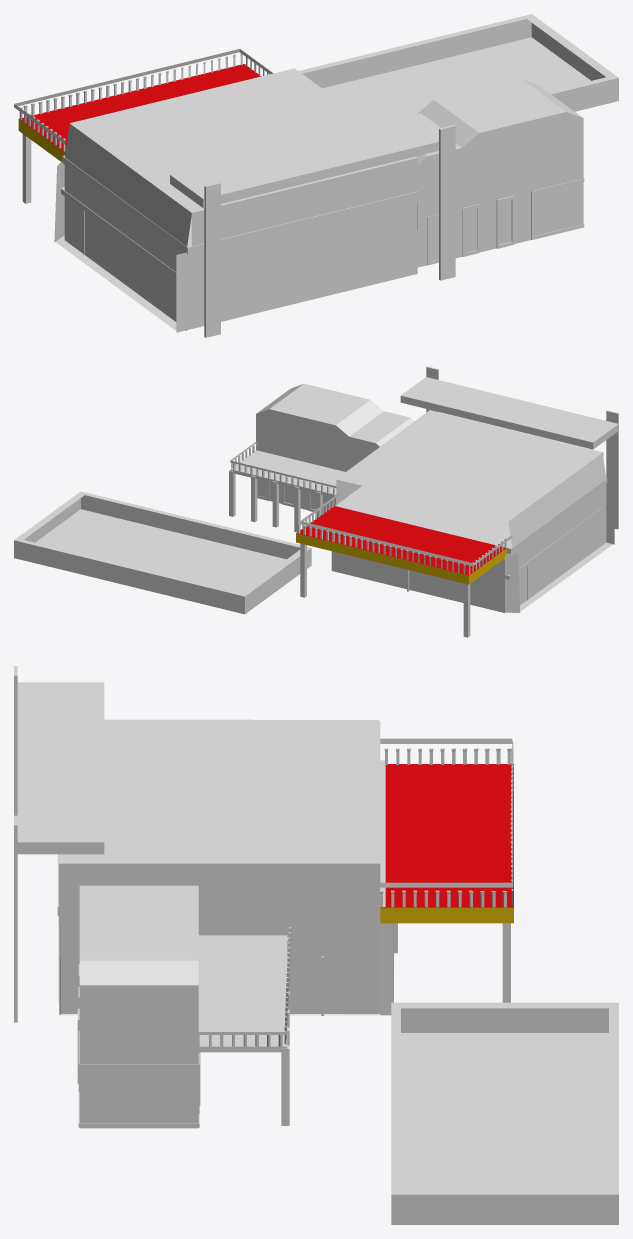
The model's file is PlayerHouseSTM.fbx.
3 views of the same model, one above another, from view 1: azimuth 30°, elevation 25°; view 2: azimuth 150°, elevation 25°; view 3: azimuth 270°, elevation 25° (orthographic). The views are drawn at different scales.
Visible parts, largest first — view 1: Cube.002, Cube.003, Cube.006, Cube.001, Cube.005, Cube.010, Cube, Cube.004, Cube.028, Cube.027, Cube.019, Cube.008; view 2: Cube.002, Cube.006, Cube.003, Cube.005, Cube.001, Cube.010, Cube.022, Cube.029, Cube.028, Cube.004, Cube.027, Cube.025 (+1 smaller); view 3: Cube.002, Cube.006, Cube.003, Cube.005, Cube.001, Cube.022, Cube.028, Cube.027, Cube.010, Cube.029, Cube, Cube.025.
Boxes of the visible parts, bbox=[...] form: Cube.002: bbox=[54, 68, 417, 332]; Cube.003: bbox=[381, 78, 584, 267]; Cube.006: bbox=[299, 14, 618, 125]; Cube.001: bbox=[170, 113, 440, 208]; Cube.005: bbox=[18, 64, 261, 161]; Cube.010: bbox=[62, 155, 417, 254]; Cube: bbox=[439, 125, 455, 280]; Cube.004: bbox=[204, 182, 220, 337]; Cube.028: bbox=[19, 53, 268, 151]; Cube.027: bbox=[14, 49, 273, 144]; Cube.019: bbox=[61, 186, 176, 277]; Cube.008: bbox=[22, 134, 31, 191]; Cube.002: bbox=[331, 410, 614, 612]; Cube.006: bbox=[14, 491, 311, 614]; Cube.003: bbox=[256, 383, 414, 512]; Cube.005: bbox=[296, 505, 507, 584]; Cube.001: bbox=[400, 377, 618, 449]; Cube.010: bbox=[335, 478, 607, 553]; Cube.022: bbox=[230, 450, 345, 497]; Cube.029: bbox=[229, 470, 322, 532]; Cube.028: bbox=[297, 497, 506, 574]; Cube.004: bbox=[606, 410, 618, 529]; Cube.027: bbox=[300, 492, 512, 566]; Cube.025: bbox=[231, 443, 334, 495]; Cube.002: bbox=[58, 719, 393, 1015]; Cube.006: bbox=[391, 1002, 618, 1224]; Cube.003: bbox=[77, 885, 200, 1128]; Cube.005: bbox=[380, 764, 513, 923]; Cube.001: bbox=[17, 682, 104, 854]; Cube.022: bbox=[198, 935, 287, 1052]; Cube.028: bbox=[379, 748, 513, 907]; Cube.027: bbox=[380, 738, 513, 887]; Cube.010: bbox=[57, 760, 385, 915]; Cube.029: bbox=[281, 937, 289, 1125]; Cube: bbox=[14, 815, 17, 1022]; Cube.025: bbox=[198, 927, 291, 1047].
Bounding box in the file's own units: 5131 × 1413 × 3614.
